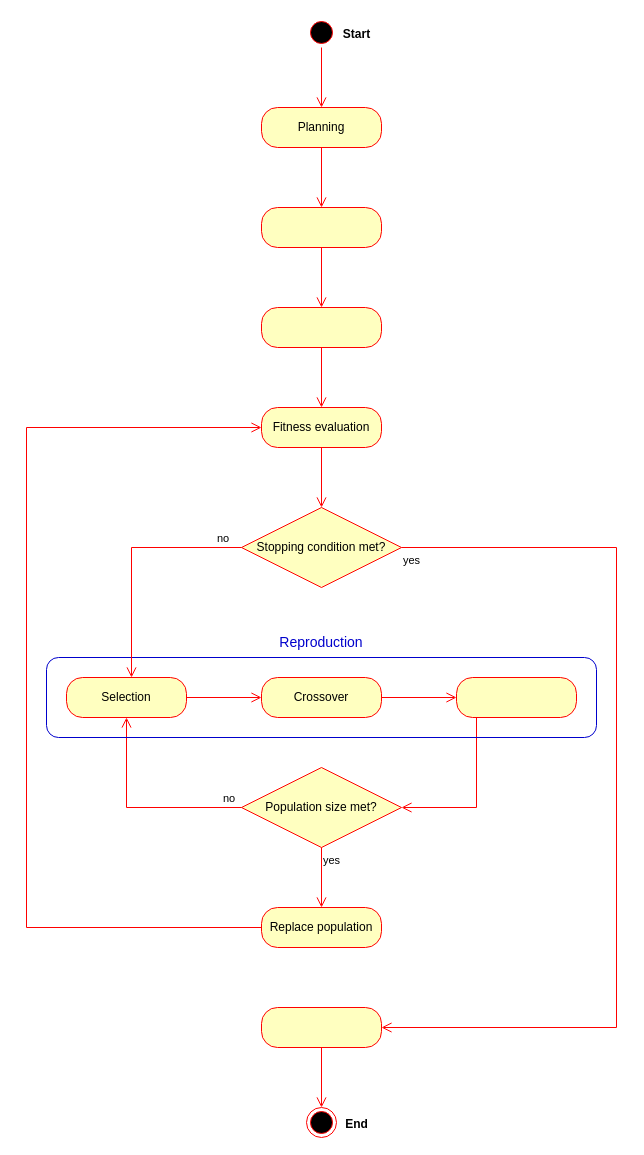
The diagram is 644 pixels wide and 1155 high, and some of its shapes have lost their labels. Each missing label, with the centre of its shape:
"Create initial population" belongs at point 321,327.
"Mutation" belongs at point 516,697.
"Pick the winner" belongs at point 321,1027.
"Setting parameters" belongs at point 321,227.
